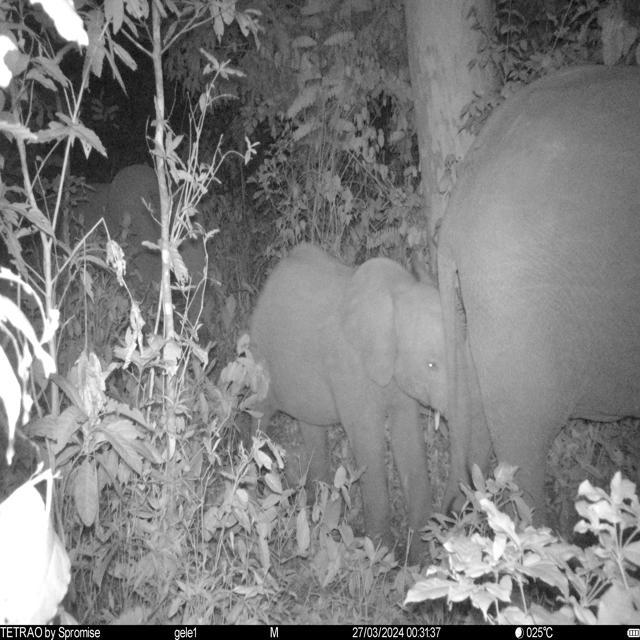calf: (245, 241, 449, 566)
ear: (338, 258, 419, 388), (104, 162, 160, 238)
elephant: (435, 64, 640, 526), (70, 164, 206, 294)
tusk: (432, 410, 442, 432)
